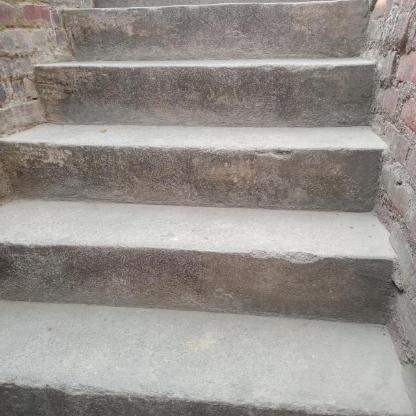stair: (1, 0, 406, 416)
